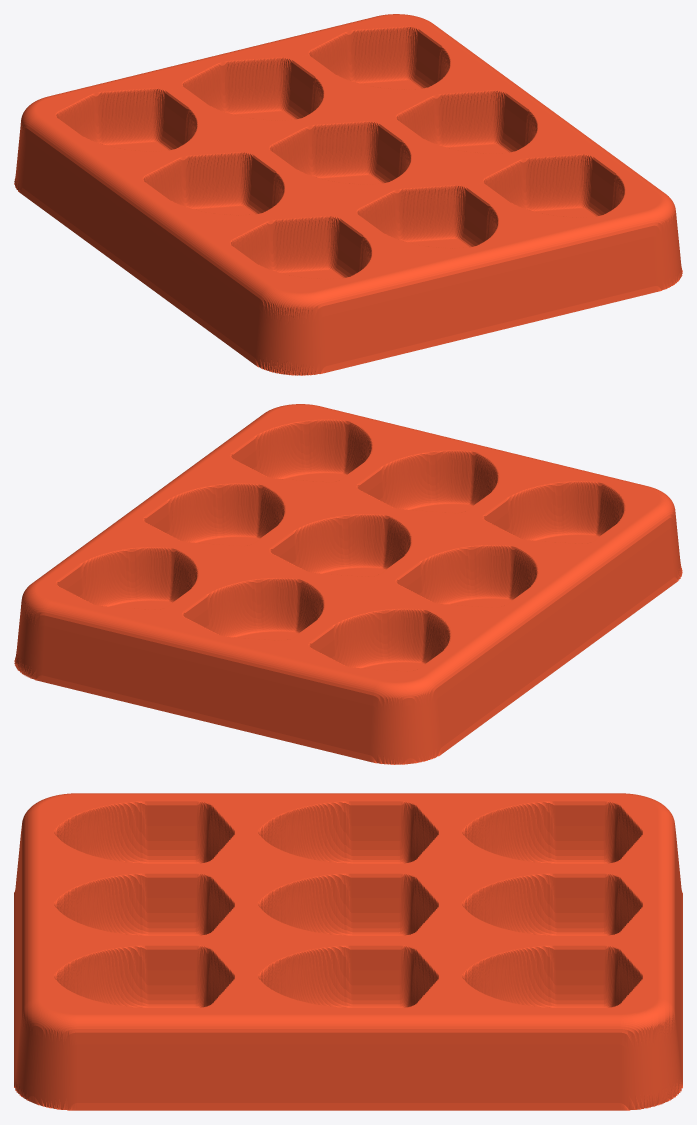
The model's file is mold.glb.
3 views of the same model, one above another, from view 1: azimuth 30°, elevation 25°; view 2: azimuth 150°, elevation 25°; view 3: azimuth 270°, elevation 25° (orthographic). The views are drawn at different scales.
Visible parts, largest first — view 1: geometry_0; view 2: geometry_0; view 3: geometry_0.
Part boxes in pixels (x1,y1,x2,y2): geometry_0: (14, 14, 682, 375); geometry_0: (14, 404, 682, 764); geometry_0: (14, 793, 682, 1110).
Bounding box in the file's own units: 0.082 × 0.0136 × 0.0964.
